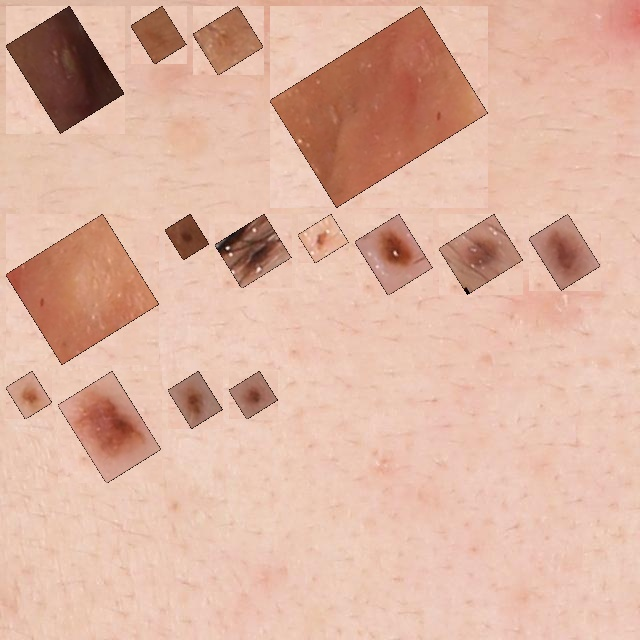hypertrophic_scar: (281, 17, 477, 196), (17, 225, 148, 353)
melasma: (204, 17, 252, 64), (142, 17, 175, 53)
nevus: (69, 382, 150, 472), (450, 225, 512, 283), (366, 225, 421, 284), (226, 225, 280, 277), (540, 225, 589, 279), (179, 382, 211, 417), (309, 225, 338, 252), (240, 382, 267, 408), (17, 382, 41, 408), (176, 225, 198, 249)
pustule: (17, 17, 113, 122)
